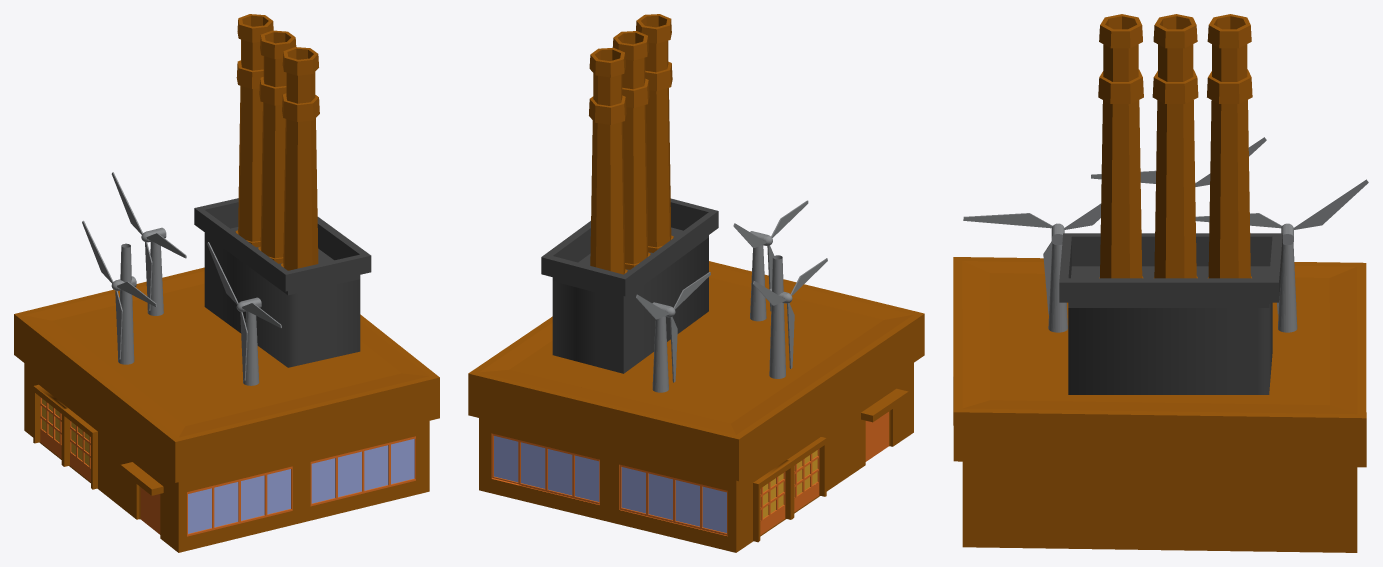
File: Usine Eolienne Niv2.fbx
3 renders of one model, left to right at view 1: azimuth 30°, elevation 25°; view 2: azimuth 150°, elevation 25°; view 3: azimuth 270°, elevation 25°, orthographic. The views are drawn at different scales.
Visible parts, largest first — view 1: usine 9; view 2: usine 9; view 3: usine 9.
Boxes of the visible parts, x1,y1,x2,y2 form: usine 9: (14,14,439,552); usine 9: (468,14,924,552); usine 9: (953,14,1368,552).
Bounding box in the file's own units: 760 × 1054 × 815.
